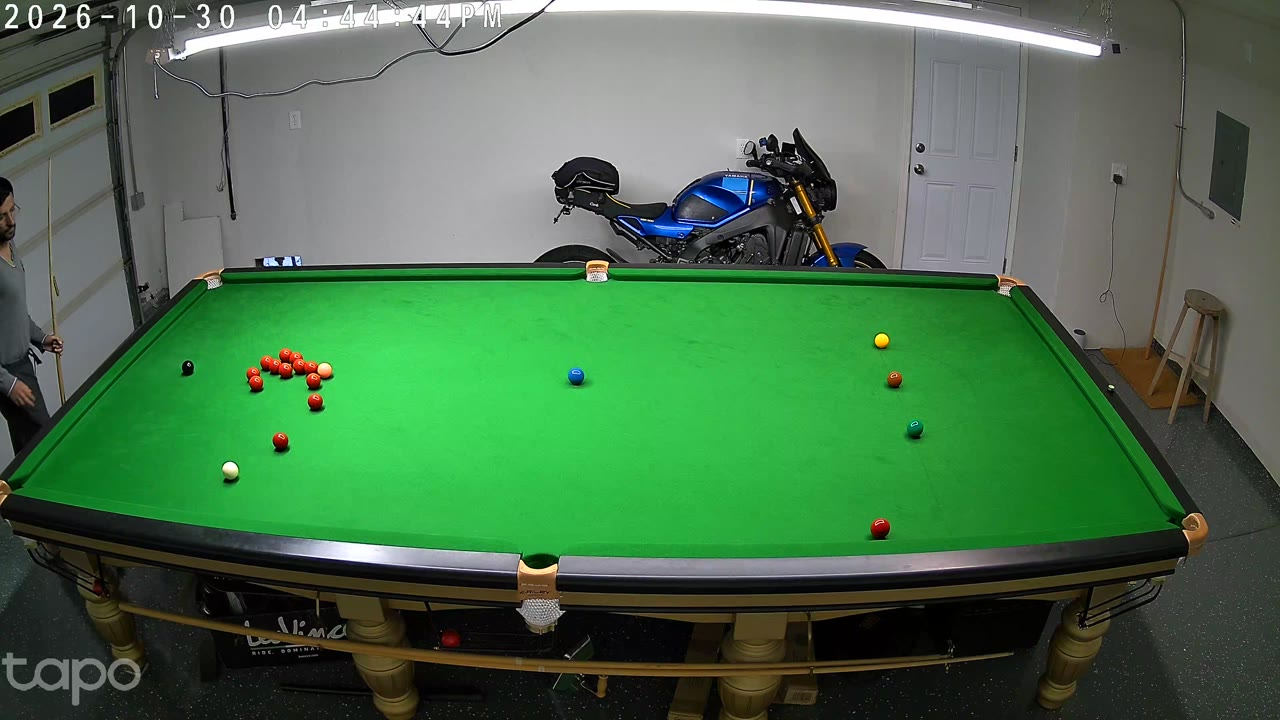black: (182, 358, 194, 378)
blue: (568, 366, 584, 388)
brown: (887, 370, 901, 391)
green: (907, 417, 923, 441)
pink: (318, 362, 331, 382)
red: (869, 515, 891, 546), (273, 431, 289, 453), (308, 392, 322, 413), (247, 366, 260, 387), (250, 374, 263, 394), (308, 371, 321, 391), (280, 361, 292, 381), (279, 348, 290, 368), (305, 360, 316, 379), (289, 350, 299, 370), (294, 358, 305, 376), (261, 355, 272, 373), (271, 357, 281, 376)
white: (222, 460, 239, 484)
yellow: (875, 332, 889, 351)
